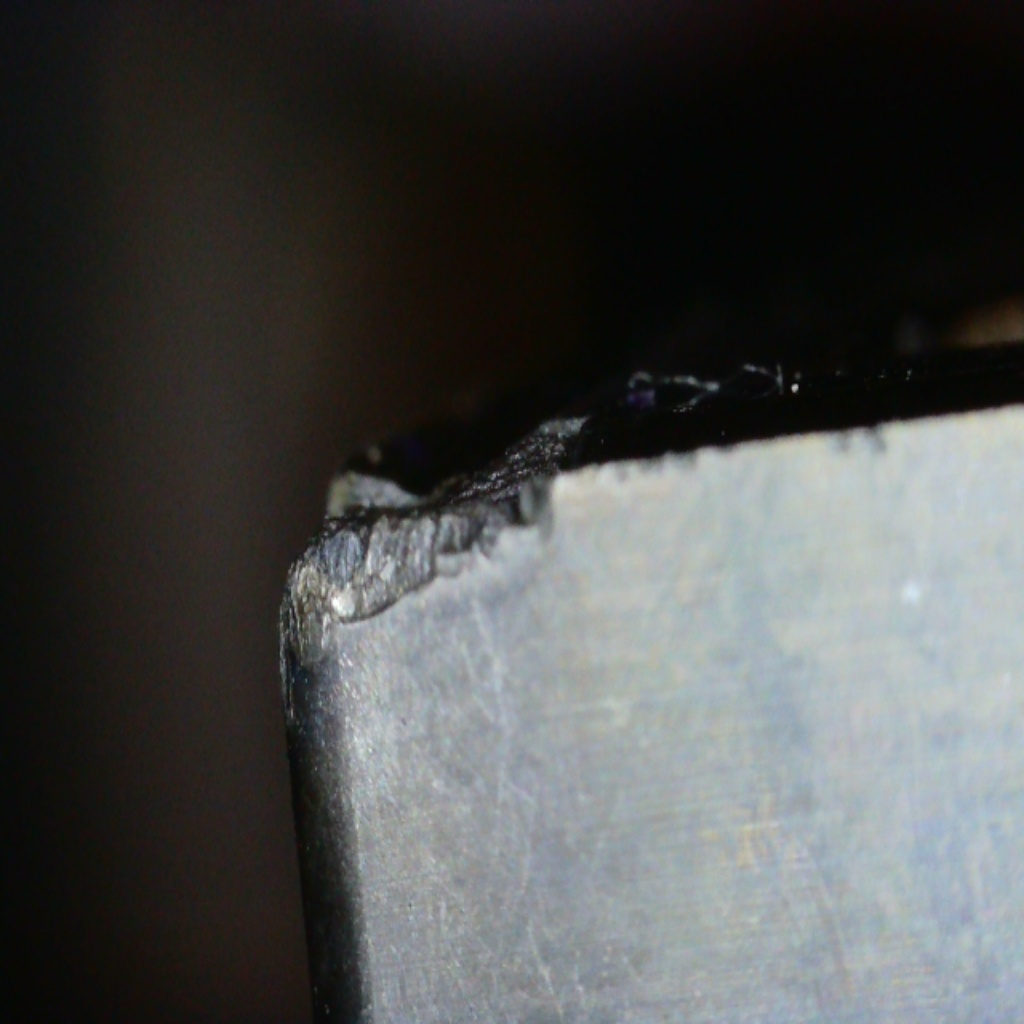flank_wear: (284, 513, 391, 723), (314, 511, 496, 619)
